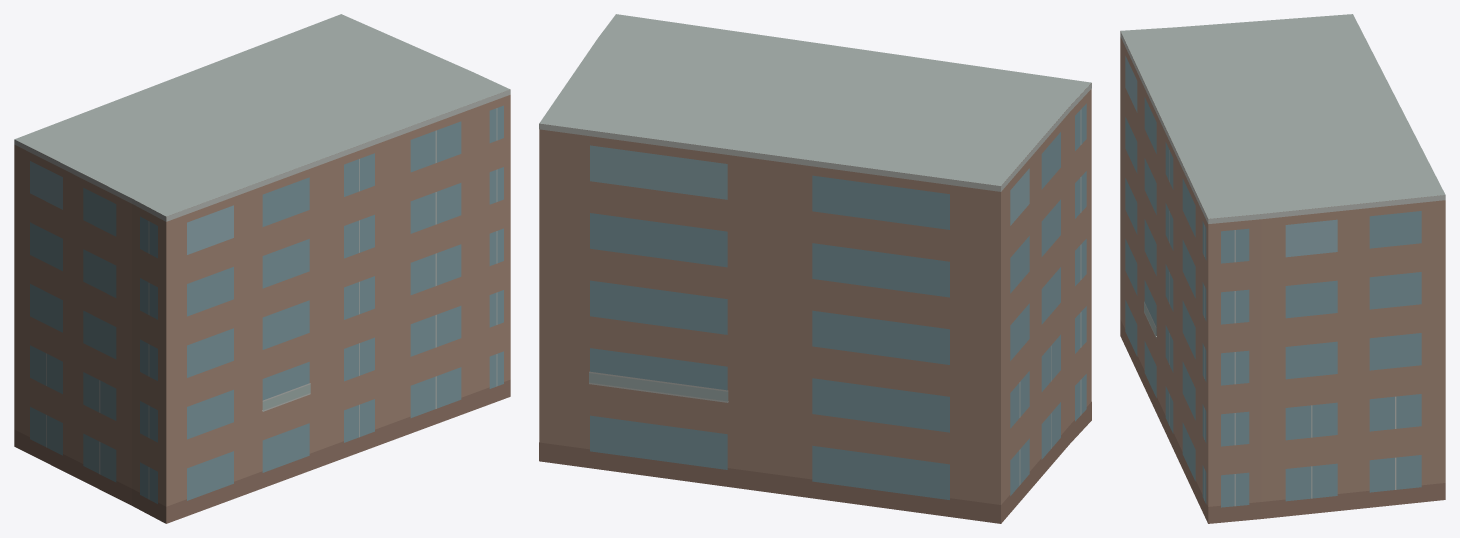
Rendered from survey-upis-32773399.glb.
The picture shows the model from 3 angles, left to right: view 1: azimuth 30°, elevation 25°; view 2: azimuth 150°, elevation 25°; view 3: azimuth 270°, elevation 25°; orthographic projection. The views are drawn at different scales.
Parts seen in each view (by area): view 1: survey-upis-32773399.tmp; view 2: survey-upis-32773399.tmp; view 3: survey-upis-32773399.tmp.
Boxes of the visible parts, box(x1,y1,x2,y2) form: survey-upis-32773399.tmp: box(14, 14, 510, 523); survey-upis-32773399.tmp: box(539, 14, 1091, 523); survey-upis-32773399.tmp: box(1120, 14, 1445, 523).
Bounding box in the file's own units: 20.48 × 14.2 × 13.74.
